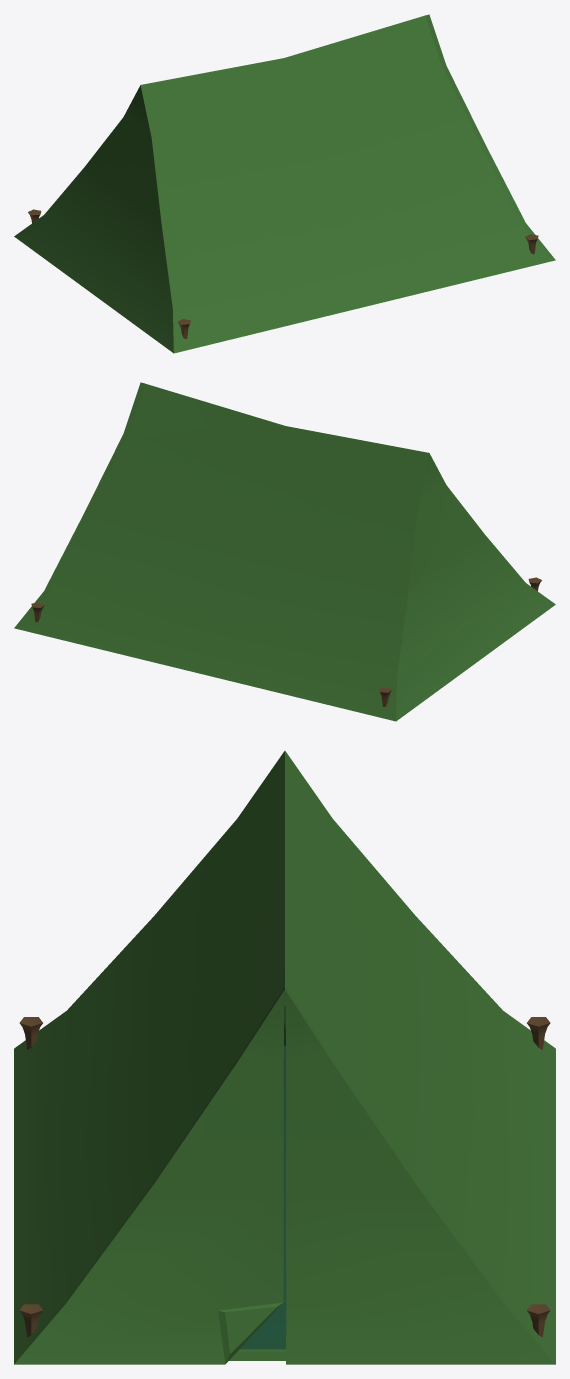
Rendered from tent.fbx.
3 renders of one model, top to bottom at view 1: azimuth 30°, elevation 25°; view 2: azimuth 150°, elevation 25°; view 3: azimuth 270°, elevation 25°, orthographic. The views are drawn at different scales.
Visible parts, largest first — view 1: pCube6, polySurface3; view 2: pCube6, polySurface2; view 3: pCube6, polySurface2, polySurface3.
Boxes of the visible parts, x1=… form: pCube6: x1=14, y1=15, x2=551, y2=353; polySurface3: x1=425, y1=14, x2=555, y2=261; pCube6: x1=18, y1=383, x2=555, y2=721; polySurface2: x1=14, y1=382, x2=144, y2=629; pCube6: x1=14, y1=751, x2=555, y2=1360; polySurface2: x1=285, y1=986, x2=555, y2=1364; polySurface3: x1=14, y1=986, x2=284, y2=1364.
Bounding box in the file's own units: 31.77 × 15.79 × 23.03.
Materials: 1 (1 with a texture image).
